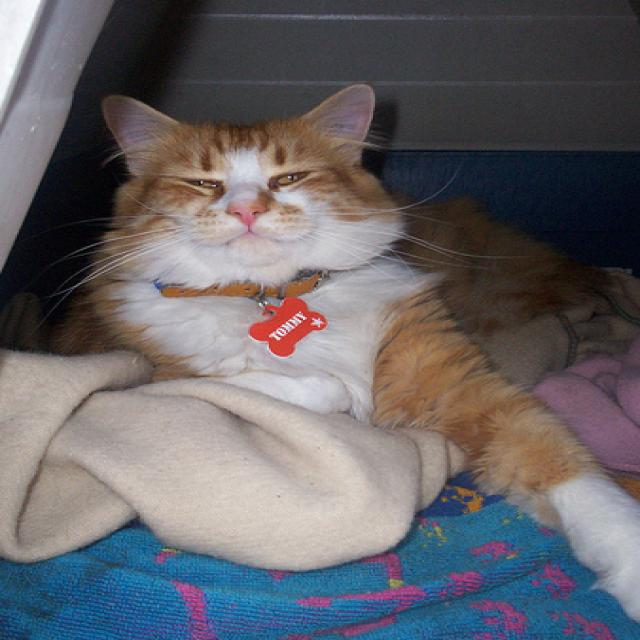Maine Coon: (51, 78, 640, 630)
